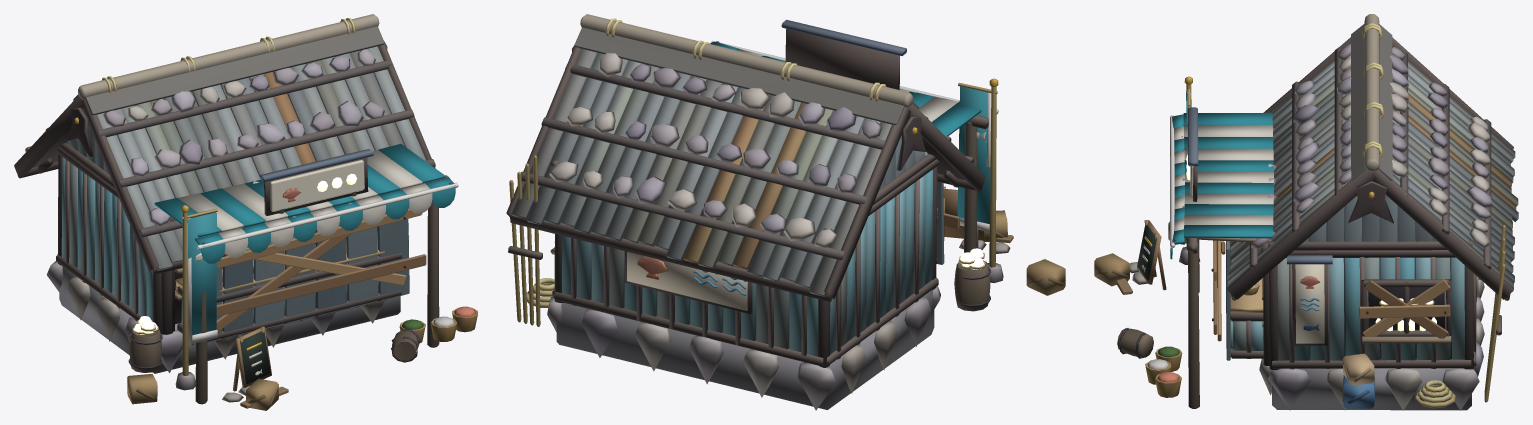
The model's file is zv-tidepool-shop.glb.
3 renders of one model, left to right at view 1: azimuth 30°, elevation 25°; view 2: azimuth 150°, elevation 25°; view 3: azimuth 270°, elevation 25°, orthographic. The views are drawn at different scales.
Visible parts, largest first — view 1: zv-tidepool-shop, saved, siege, window_glow; view 2: zv-tidepool-shop, saved, siege; view 3: zv-tidepool-shop, saved, siege.
Boxes of the visible parts, box(x1,y1,x2,y2) form: zv-tidepool-shop: box(14, 14, 449, 404); saved: box(154, 144, 477, 391); siege: box(127, 208, 426, 410); window_glow: box(133, 173, 356, 334); zv-tidepool-shop: box(506, 14, 990, 410); saved: box(710, 40, 1003, 282); siege: box(554, 181, 1065, 295); zv-tidepool-shop: box(1181, 14, 1518, 410); saved: box(1137, 76, 1273, 397); siege: box(1094, 221, 1450, 360).
Bounding box in the file's own units: 4.99 × 3.46 × 5.01.
